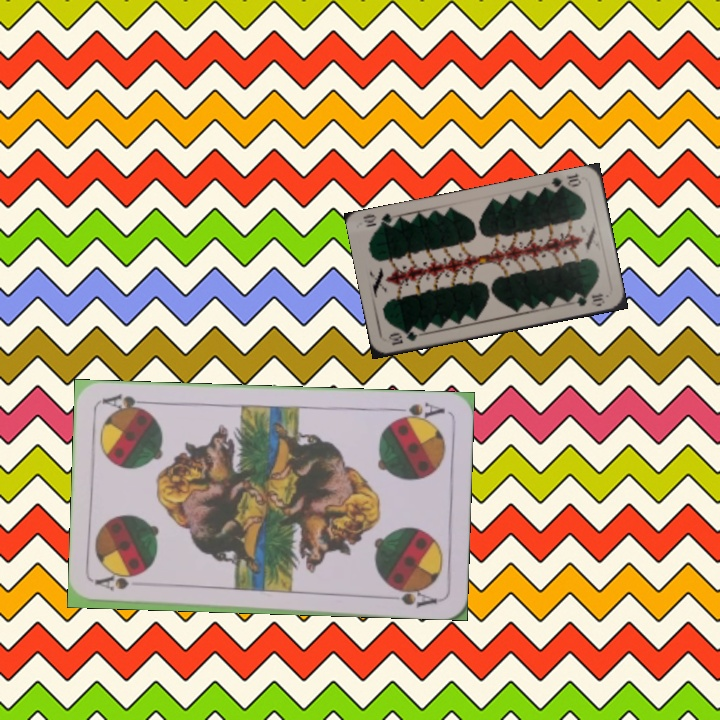G10: (546, 170, 584, 195), (384, 325, 424, 348)
SA: (388, 397, 448, 425), (93, 573, 132, 593)
